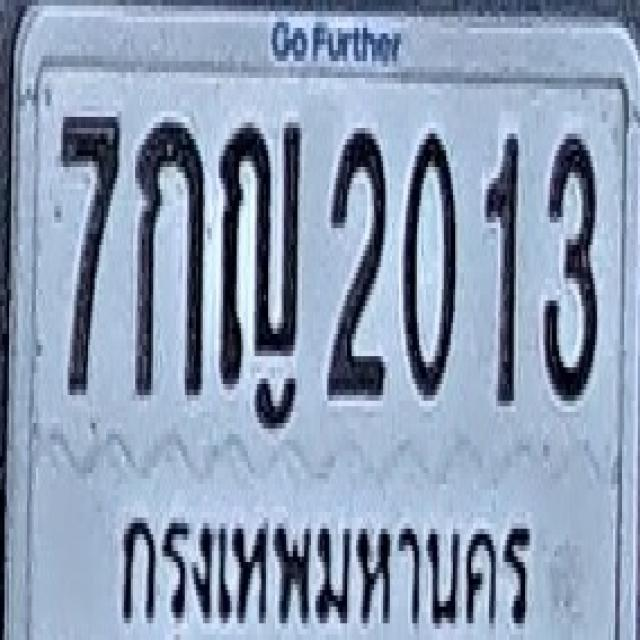0: (402, 128, 457, 395)
1: (484, 131, 518, 403)
2: (327, 125, 385, 398)
3: (543, 131, 597, 403)
7: (59, 111, 120, 395)
A01: (134, 117, 204, 395)
A13: (219, 117, 302, 389)
BKK: (120, 495, 538, 640)
